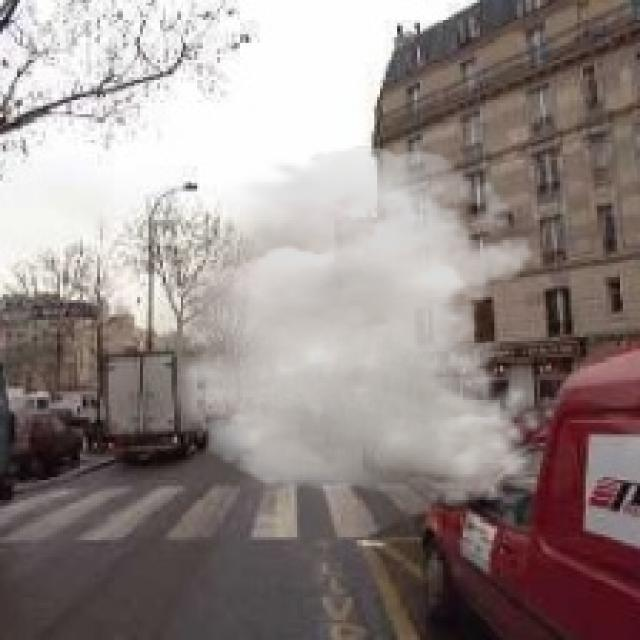Smoke: (123, 145, 546, 506)
